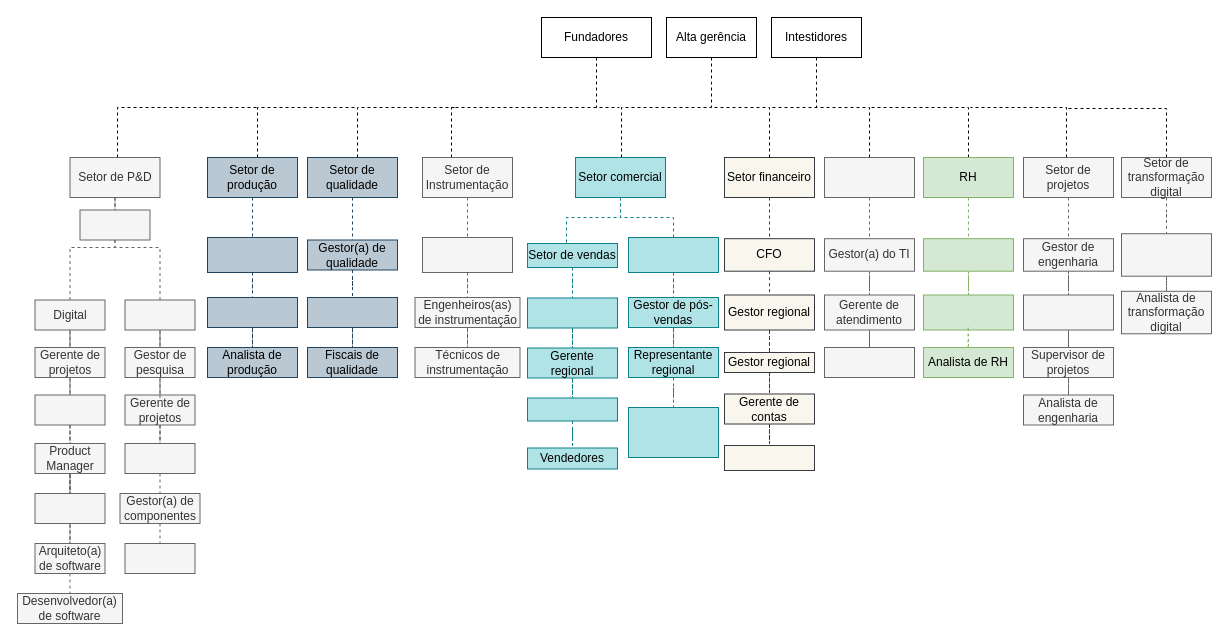
Some shapes in this 1229 by 641 pixel diagram are drawn without their labels. Each missing label, with the box of its shape:
Analista de costumer success: (628, 406, 718, 458)
Analógico: (124, 299, 195, 330)
Arquiteto(a) de sistema: (34, 394, 105, 425)
Contador(a): (724, 444, 814, 470)
CTO: (79, 209, 150, 240)
Diretor de RH: (922, 238, 1014, 271)
Gerente da matriz: (206, 236, 298, 272)
Gerente de projeto: (1022, 294, 1114, 330)
Gerente de RH: (922, 294, 1014, 330)
Gestor de vendas: (526, 297, 618, 328)
Gestor(a) de transformação digital: (1120, 233, 1212, 276)
Gestor(a) do projeto: (124, 442, 195, 474)
Gestor(a) dos laboratórios: (422, 236, 512, 272)
Product Owner: (34, 492, 105, 524)
Projetista de hardware: (124, 542, 195, 574)
Scrum master: (526, 397, 618, 421)
Setor de pós-vendas: (628, 236, 718, 272)
Setor de TI: (824, 156, 914, 198)
Supervisor(a) de linha: (206, 296, 298, 328)
Supervisores de qualidade: (306, 296, 398, 328)
Técnico(a): (824, 346, 914, 378)
